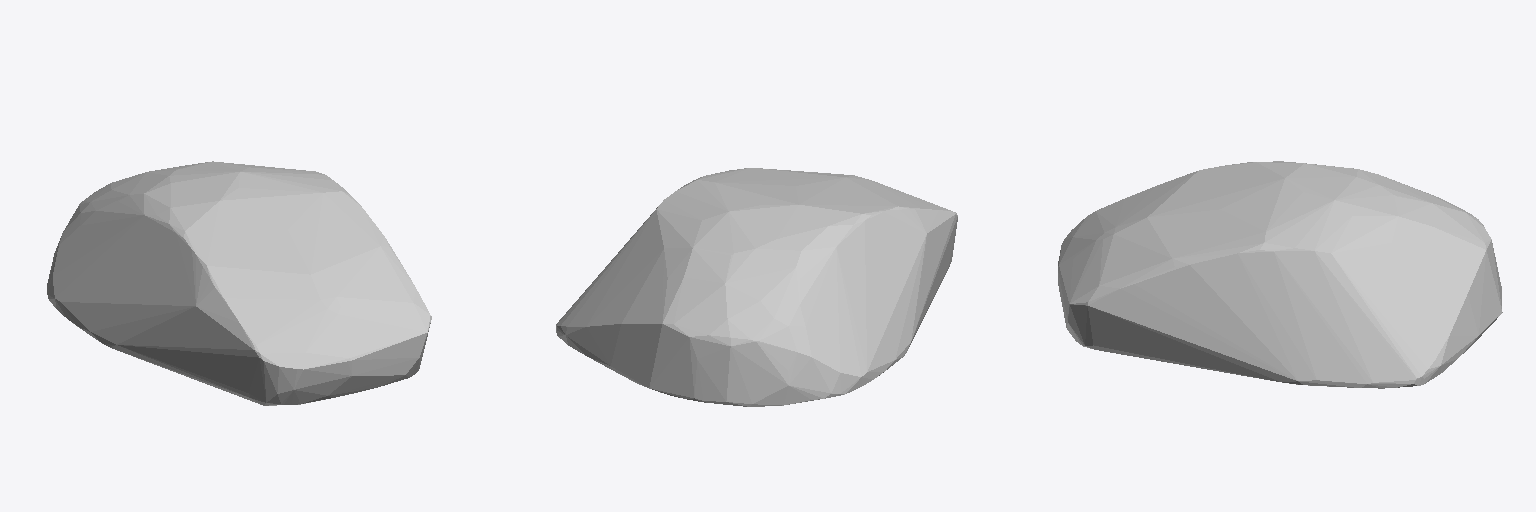
The model's file is computer_mouse_collision.obj.
3 renders of one model, left to right at view 1: azimuth 30°, elevation 25°; view 2: azimuth 150°, elevation 25°; view 3: azimuth 270°, elevation 25°, orthographic.
Bounding box in the file's own units: 0.0761 × 0.0303 × 0.0993.